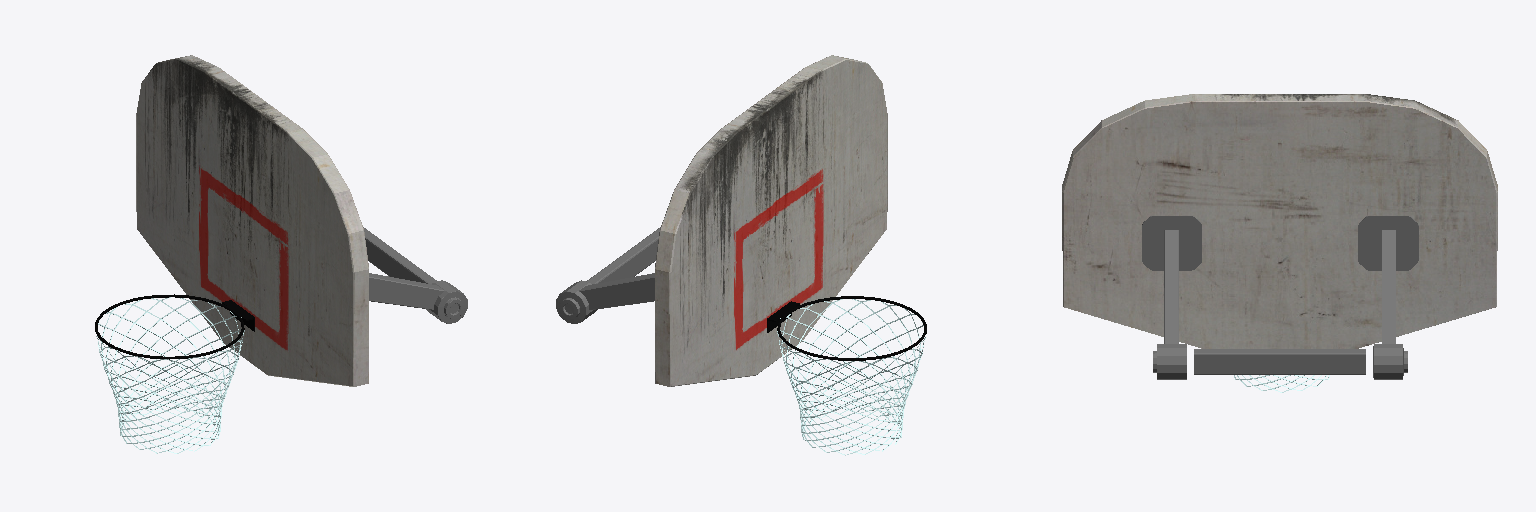
The picture shows the model from 3 angles: view 1: azimuth 30°, elevation 25°; view 2: azimuth 150°, elevation 25°; view 3: azimuth 270°, elevation 25°; orthographic projection.
Visible parts, largest first — view 1: polySurface46; view 2: polySurface46; view 3: polySurface46.
Boxes of the visible parts, <box> form: polySurface46: <box>95,55,467,453</box>; polySurface46: <box>556,55,926,455</box>; polySurface46: <box>1062,94,1497,392</box>.
Size of the model in its own units: 4.36 by 4.36 by 5.47.
4 materials, 1 textured.